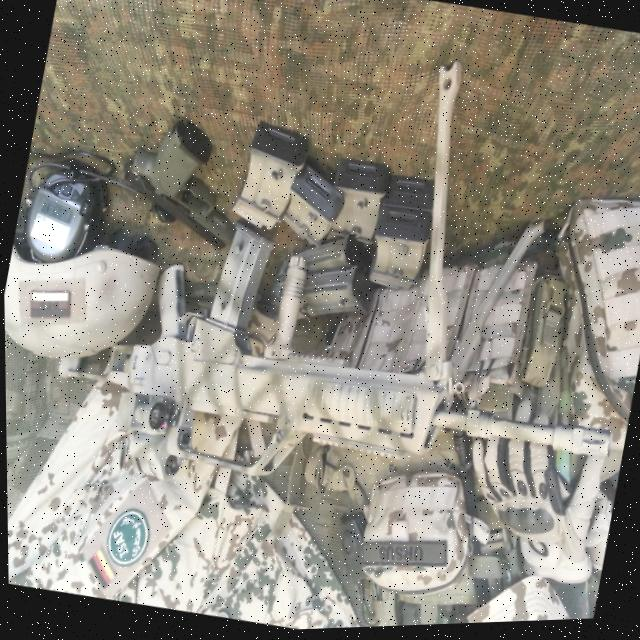firearm: (38, 189, 640, 550)
pistol: (109, 105, 255, 257)
